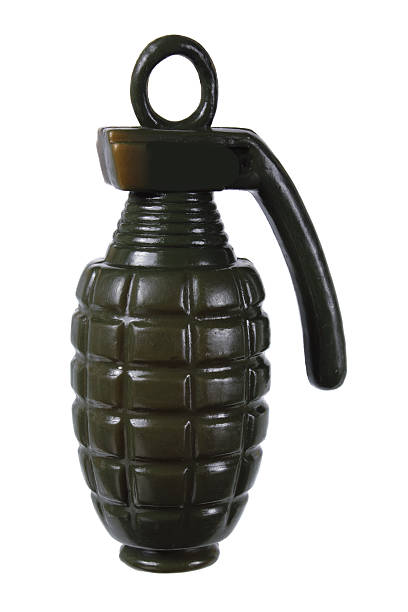e1: (71, 36, 347, 574)
